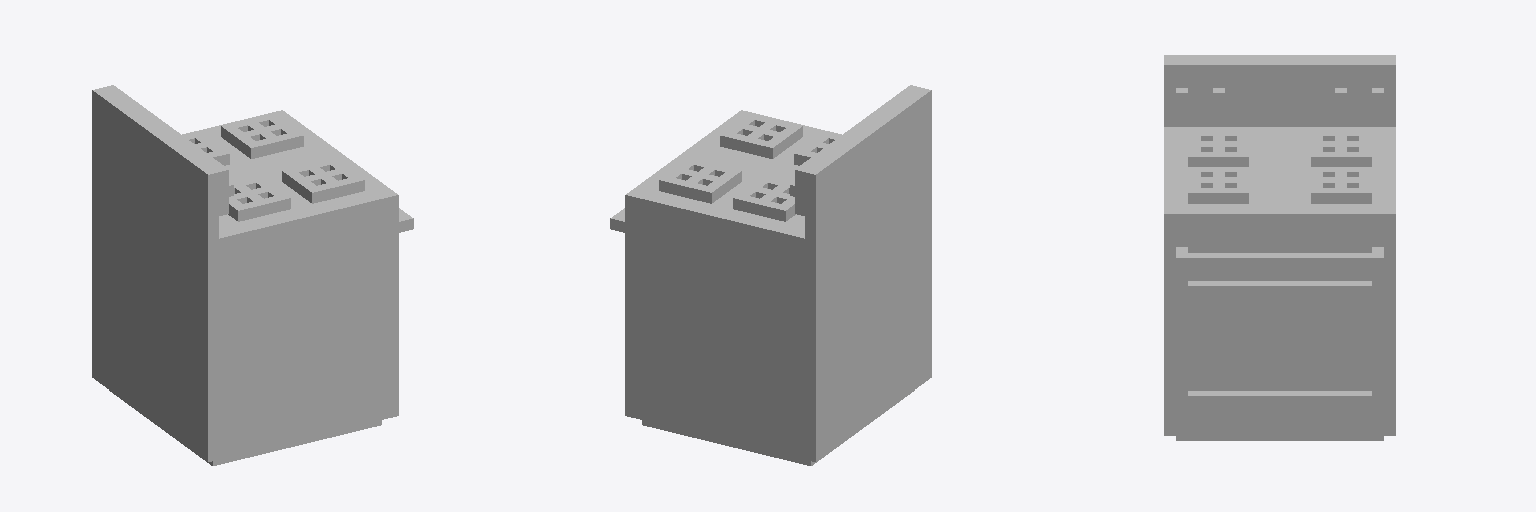
The model's file is Stove.obj.
The picture shows the model from 3 angles: view 1: azimuth 30°, elevation 25°; view 2: azimuth 150°, elevation 25°; view 3: azimuth 270°, elevation 25°; orthographic projection.
Parts seen in each view (by area): view 1: object 1; view 2: object 1; view 3: object 1.
Part boxes in pixels (x1,y1,x2,y2): object 1: (92,85,413,465); object 1: (610,85,931,465); object 1: (1164,55,1395,440).
Size of the model in its own units: 4 by 5.4 by 3.8.